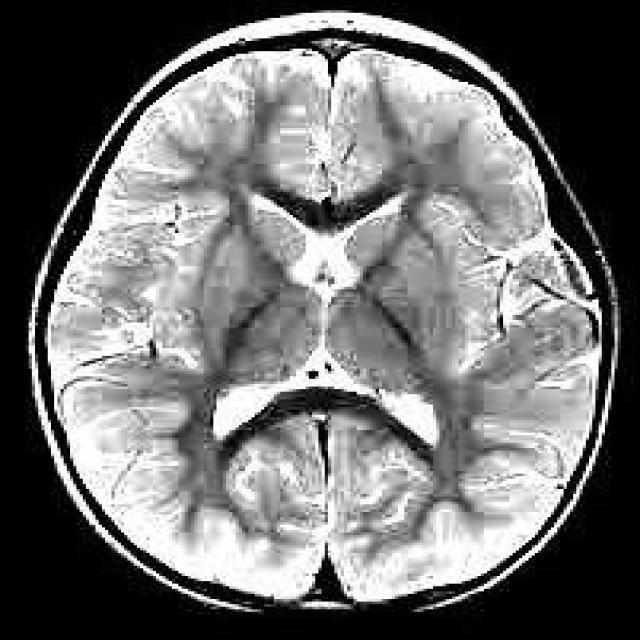notumor: (32, 13, 615, 617)
